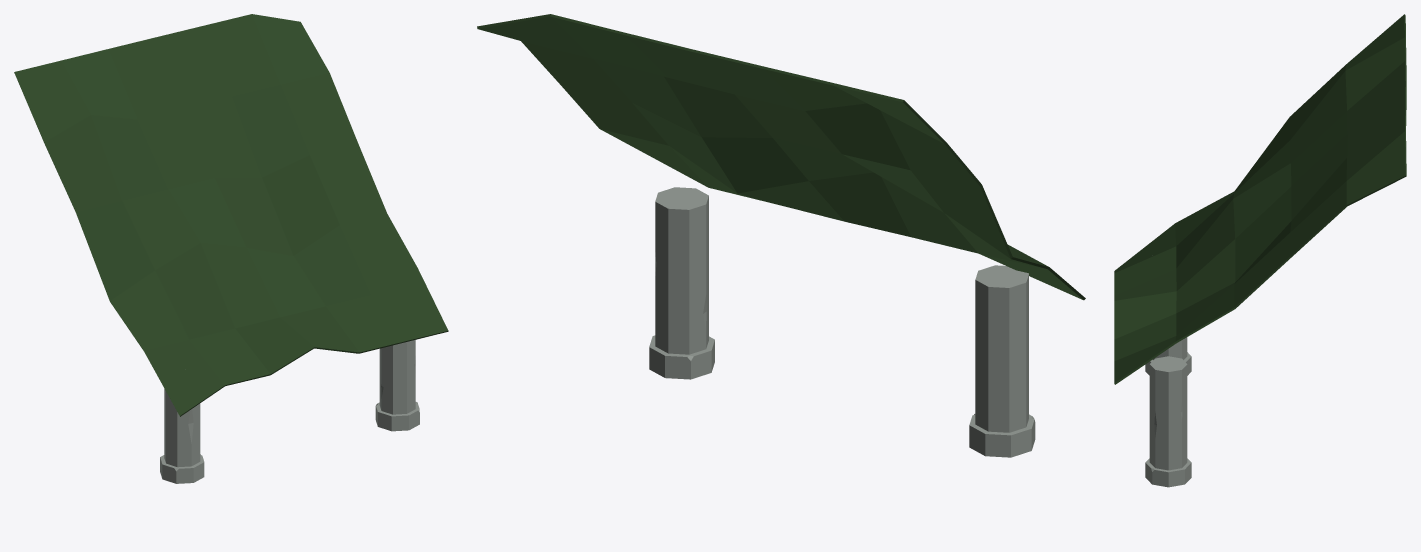
Rendered from SM_Env_Stall_11.fbx.
3 views of the same model, side by side, from view 1: azimuth 30°, elevation 25°; view 2: azimuth 150°, elevation 25°; view 3: azimuth 270°, elevation 25° (orthographic). The views are drawn at different scales.
Visible parts, largest first — view 1: SM_Env_Stall_11; view 2: SM_Env_Stall_11; view 3: SM_Env_Stall_11.
Part boxes in pixels (<box>): SM_Env_Stall_11: <box>14,14,448,483</box>; SM_Env_Stall_11: <box>477,14,1085,457</box>; SM_Env_Stall_11: <box>1114,14,1406,487</box>.
Bounding box in the file's own units: 324 × 394 × 276.
Materials: 1 (1 with a texture image).
